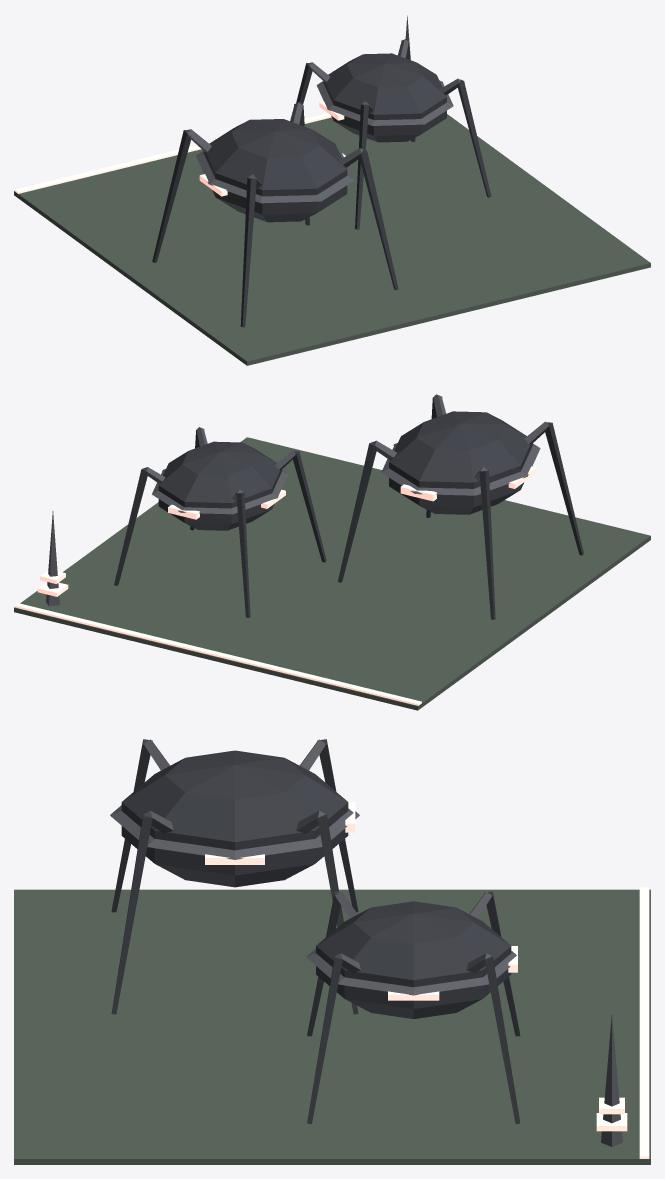
The model's file is zone_low_5_t2.glb.
3 views of the same model, one above another, from view 1: azimuth 30°, elevation 25°; view 2: azimuth 150°, elevation 25°; view 3: azimuth 270°, elevation 25° (orthographic). The views are drawn at different scales.
Visible parts, largest first — view 1: zone_low_5_t2, detail; view 2: zone_low_5_t2, detail; view 3: zone_low_5_t2, detail.
Part boxes in pixels (left/top/right/bottom): zone_low_5_t2: left=14, top=38, right=650, bottom=365; detail: left=14, top=15, right=450, bottom=196; zone_low_5_t2: left=14, top=394, right=650, bottom=710; detail: left=14, top=446, right=536, bottom=705; zone_low_5_t2: left=14, top=739, right=650, bottom=1164; detail: left=205, top=854, right=649, bottom=1158.
Size of the model in its own units: 19.6 by 6.91 by 19.6.
